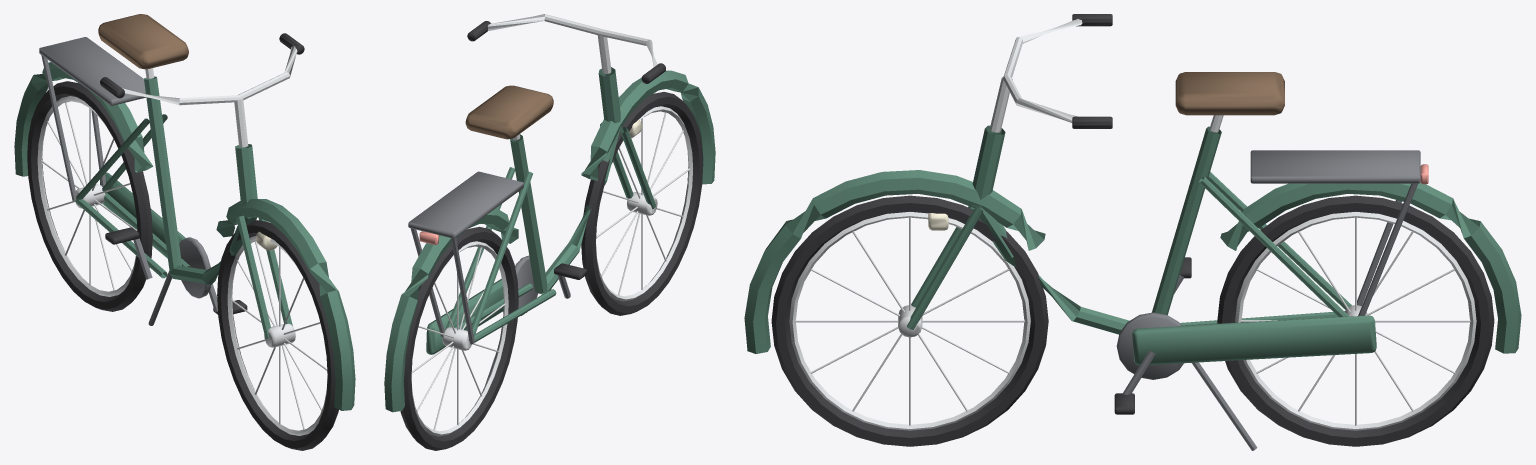
Rendered from bicycle_a.glb.
3 views of the same model, side by side, from view 1: azimuth 30°, elevation 25°; view 2: azimuth 150°, elevation 25°; view 3: azimuth 270°, elevation 25° (orthographic). The views are drawn at different scales.
Visible parts, largest first — view 1: Body; view 2: Body; view 3: Body.
Part boxes in pixels (x1=…): Body: x1=14, y1=14, x2=355, y2=450; Body: x1=384, y1=14, x2=715, y2=450; Body: x1=744, y1=14, x2=1521, y2=450.
Size of the model in its own units: 0.6304 by 1.04 by 1.92.
